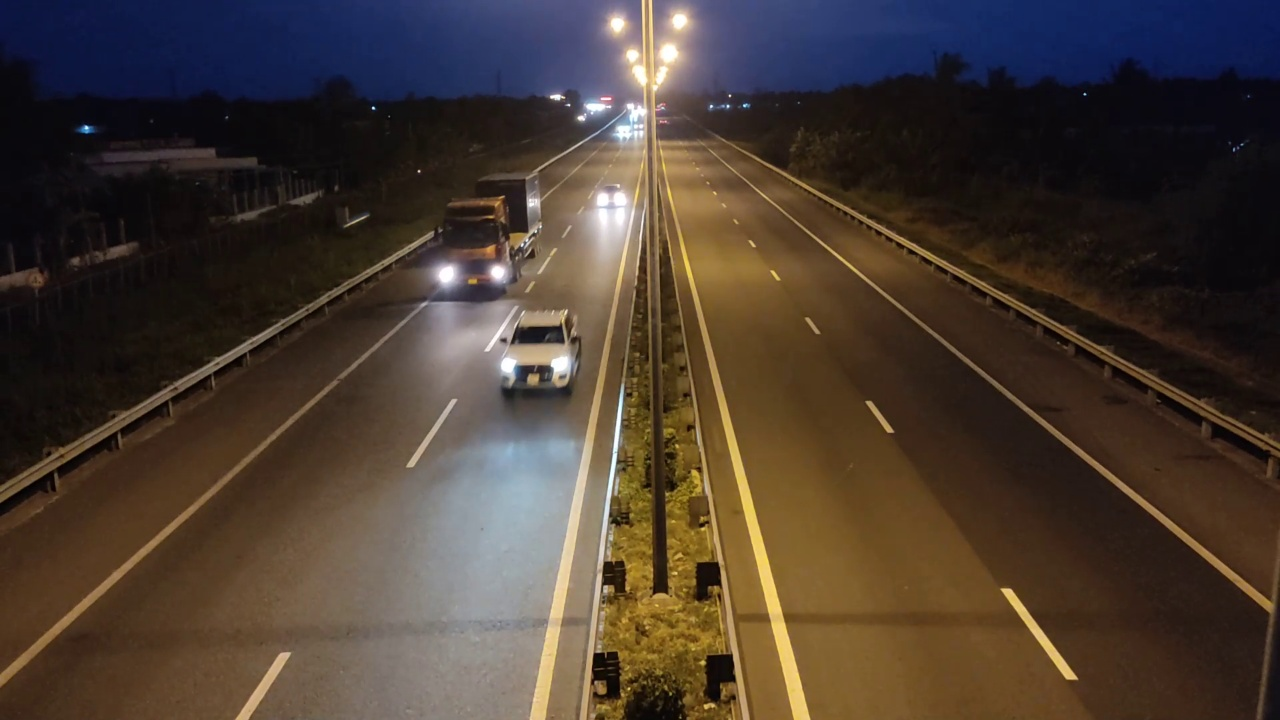car: (494, 306, 583, 398)
truck: (427, 171, 546, 299)
